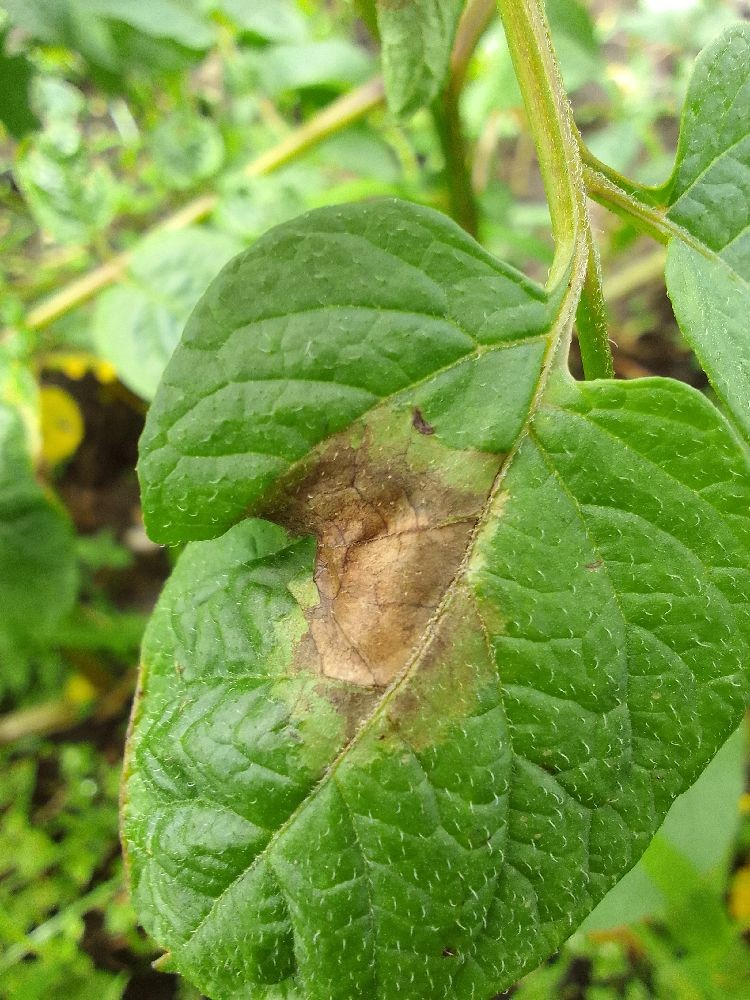late_blight: (249, 392, 519, 764), (6, 329, 201, 646), (0, 625, 165, 860), (595, 263, 721, 404)
